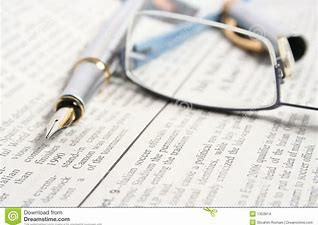pen: (36, 1, 138, 143)
